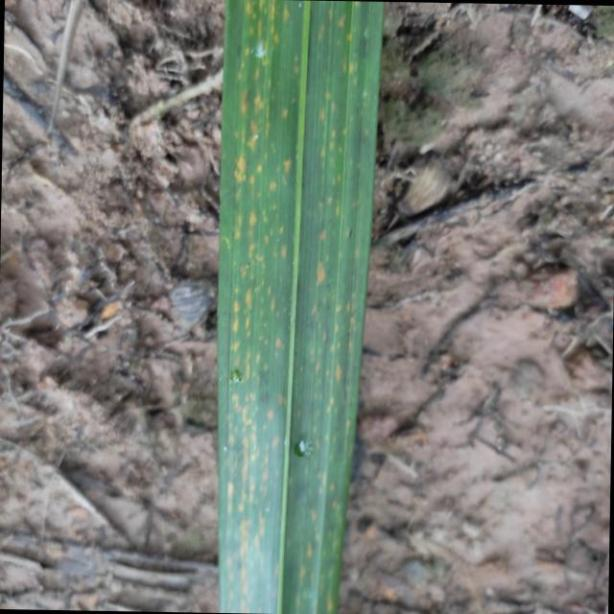Kalium: (214, 1, 385, 614)
